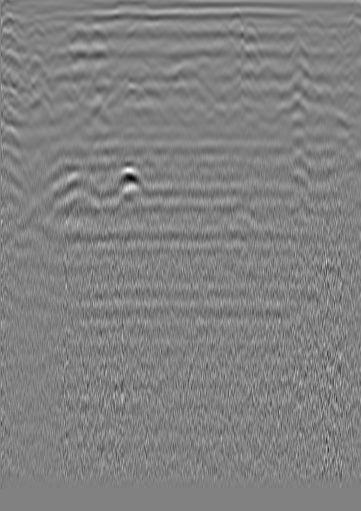가스: (109, 164, 149, 194)
상수: (26, 20, 46, 40)
오수: (306, 10, 326, 30)
우수: (166, 17, 186, 37)
